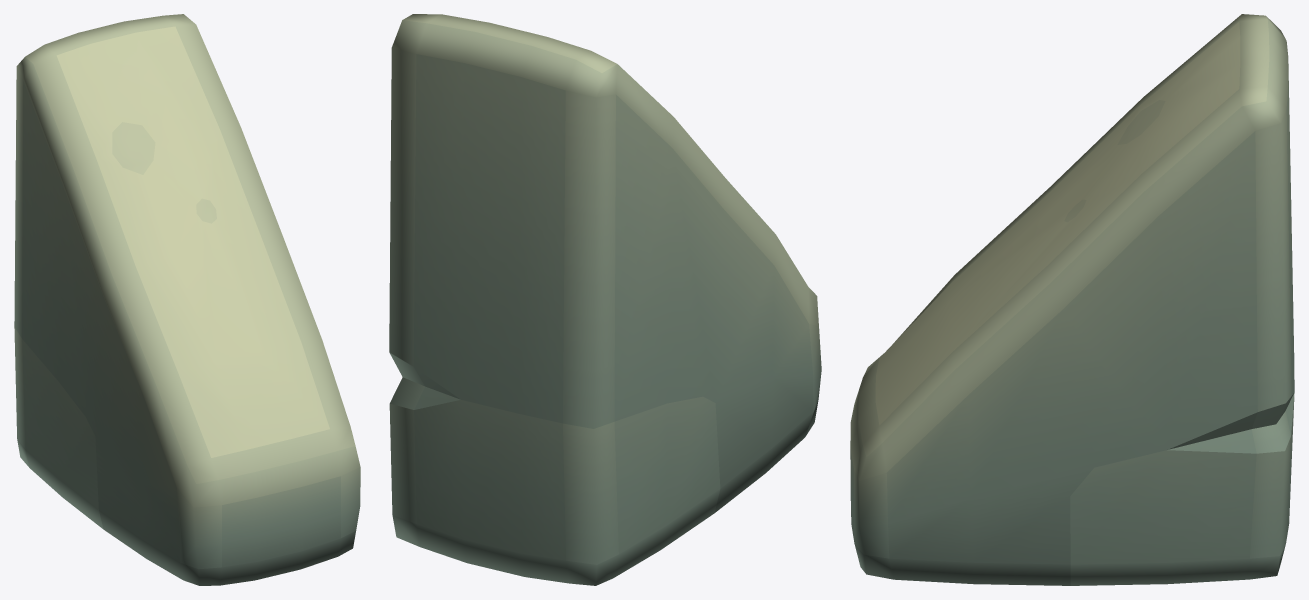
The model's file is block_rail2_LOD_group.fbx.
3 views of the same model, side by side, from view 1: azimuth 30°, elevation 25°; view 2: azimuth 150°, elevation 25°; view 3: azimuth 270°, elevation 25° (orthographic). The views are drawn at different scales.
Parts seen in each view (by area): view 1: block_rail2_LOD0; view 2: block_rail2_LOD0; view 3: block_rail2_LOD0.
Part boxes in pixels (left/top/right/bottom): block_rail2_LOD0: left=14, top=14, right=360, bottom=585; block_rail2_LOD0: left=389, top=14, right=821, bottom=585; block_rail2_LOD0: left=850, top=14, right=1294, bottom=585.
Size of what is drawn, in the model's own units: 58.12 by 132 by 107.
Materials: 1 (1 with a texture image).
